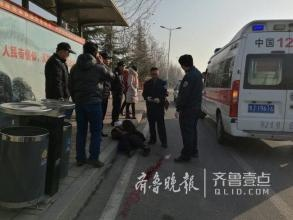falling: (106, 113, 152, 158)
